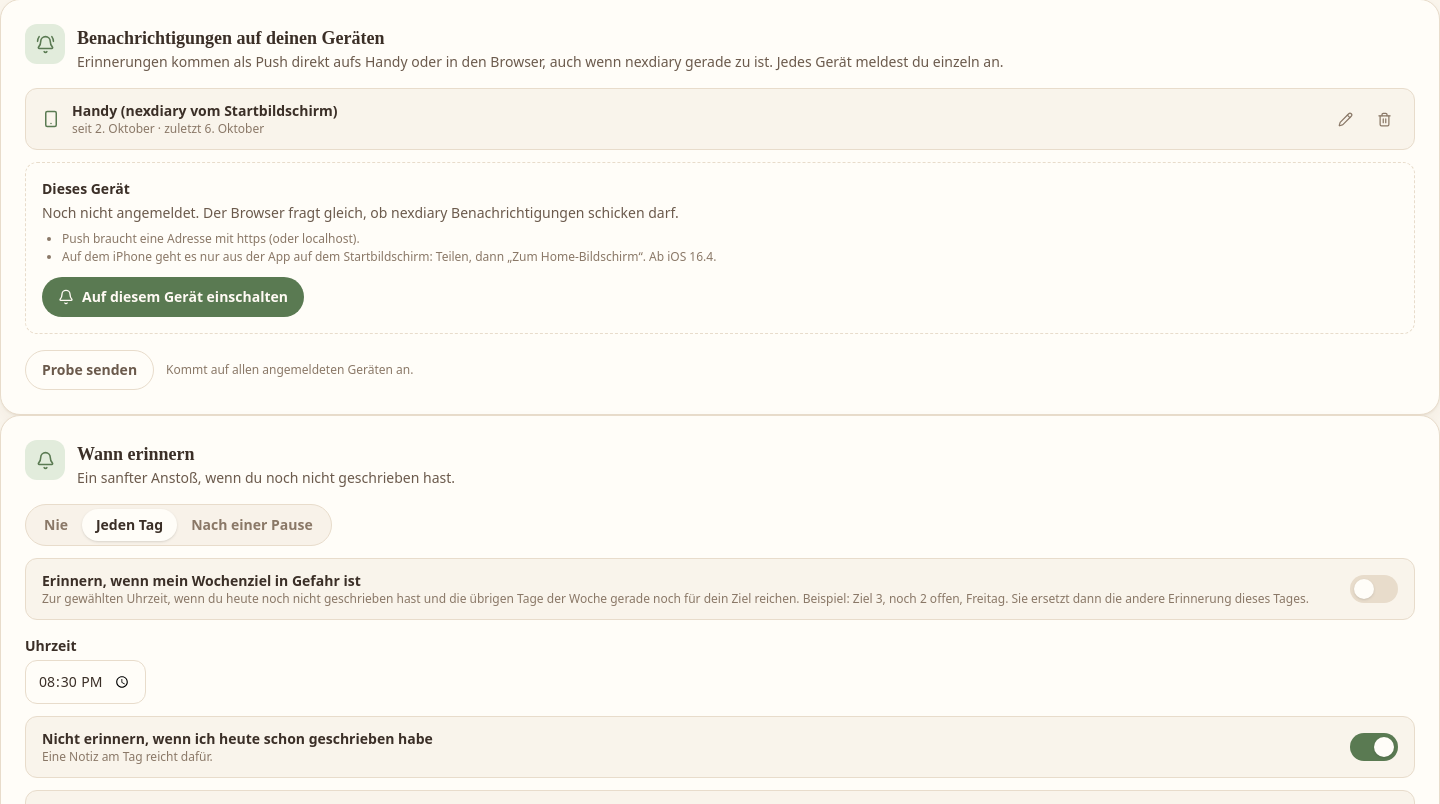
Test: the weekly goal in danger › is off from the start and saves the one choice it changes
Click the switch named "Erinnern, wenn mein Wochenziel in Gefahr ist": (1374, 589) x1=1350 y1=575 x2=1398 y2=603
(page scrolled)
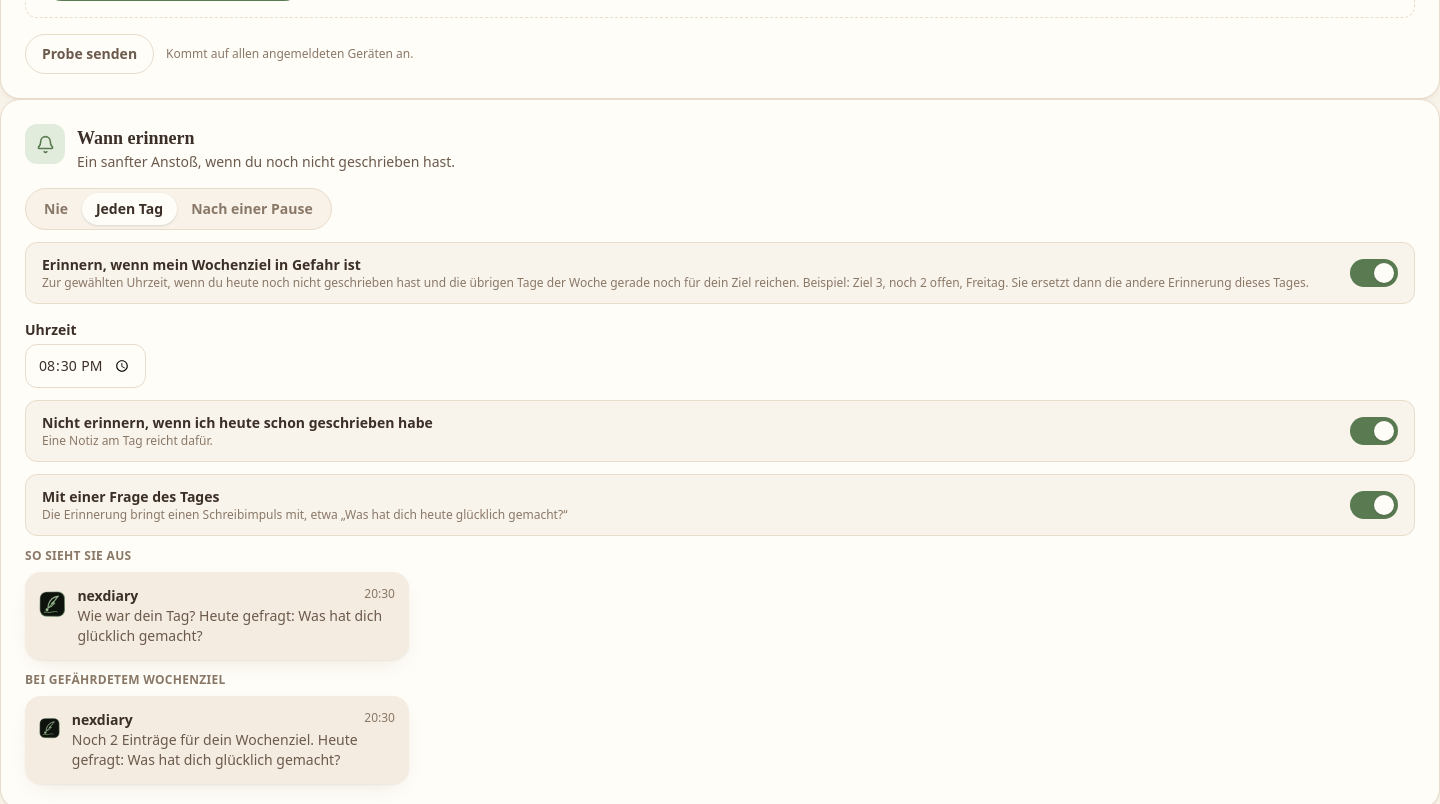
Check: the element with test id "reminder-preview" shows "Wie war dein Tag?", box x1=77 y1=606 x2=382 y2=645
Check: the element with test id "reminder-preview-goal" shows "Noch 2 Einträge für dein Wochenziel. Heute gefragt: Was hat dich glücklich gemacht?", box x1=72 y1=730 x2=358 y2=769
